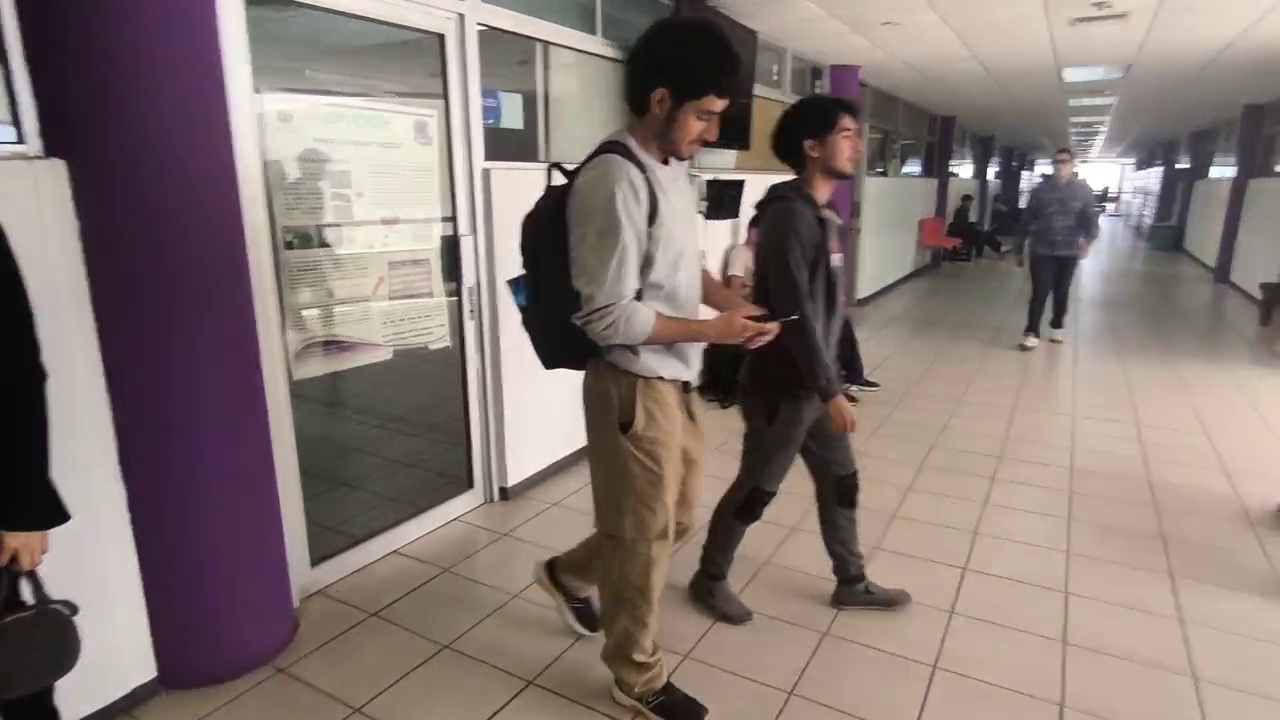mixto2: (738, 302, 808, 331)
